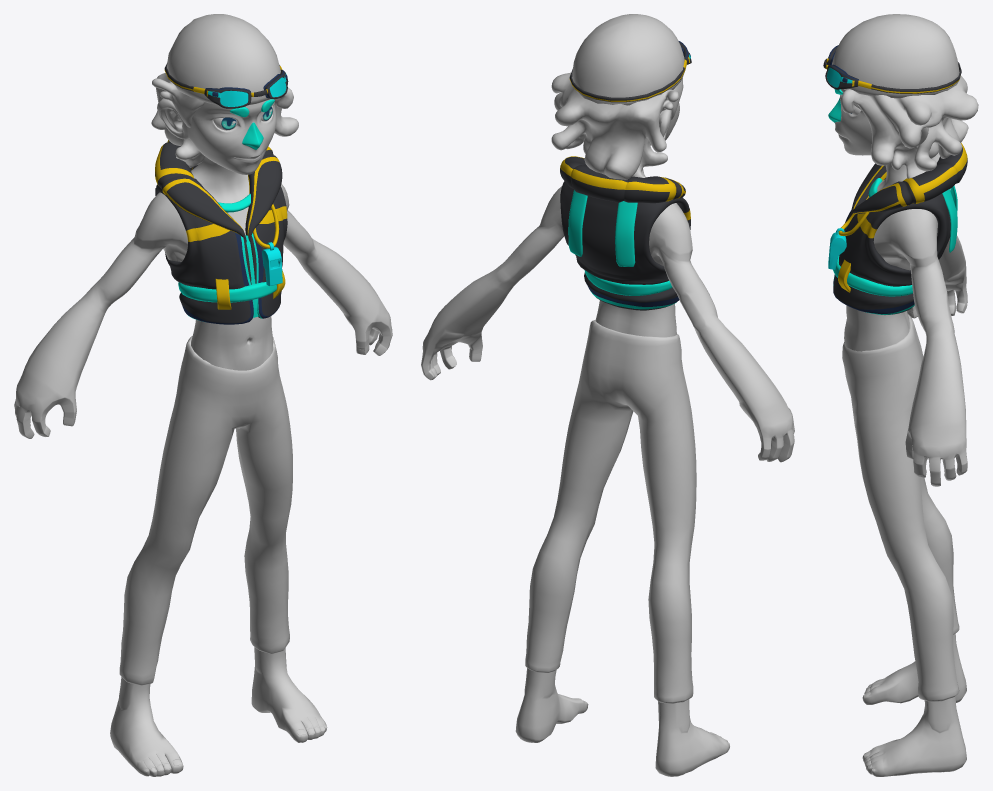
The model's file is stinray_Sport_v1.fbx.
3 renders of one model, left to right at view 1: azimuth 30°, elevation 25°; view 2: azimuth 150°, elevation 25°; view 3: azimuth 270°, elevation 25°, orthographic.
Visible parts, largest first — view 1: mainBody_c_geo, pants_c_geo, lifevest_c_geo, swimcap_c_geo, lifevestHood_c_geo, hair_c_geo, glasses_c_geo, lifevestBelt_c_geo, whistle_c_geo; view 2: pants_c_geo, mainBody_c_geo, hair_c_geo, swimcap_c_geo, lifevest_c_geo, lifevestHood_c_geo, lifevestBackDetail_c_geo, lifevestBelt_c_geo, glasses_c_geo; view 3: mainBody_c_geo, pants_c_geo, swimcap_c_geo, hair_c_geo, lifevest_c_geo, lifevestHood_c_geo, glasses_c_geo, lifevestBelt_c_geo, lifevestBackDetail_c_geo, whistle_c_geo.
Boxes of the visible parts, x1=… form: mainBody_c_geo: x1=14, y1=98, x2=392, y2=776; pants_c_geo: x1=119, y1=336, x2=292, y2=685; lifevest_c_geo: x1=155, y1=165, x2=287, y2=324; swimcap_c_geo: x1=167, y1=14, x2=280, y2=104; lifevestHood_c_geo: x1=155, y1=140, x2=282, y2=241; hair_c_geo: x1=151, y1=73, x2=298, y2=167; glasses_c_geo: x1=164, y1=63, x2=288, y2=108; lifevestBelt_c_geo: x1=178, y1=282, x2=276, y2=302; whistle_c_geo: x1=262, y1=242, x2=282, y2=285; pants_c_geo: x1=525, y1=319, x2=696, y2=703; mainBody_c_geo: x1=421, y1=103, x2=794, y2=776; hair_c_geo: x1=551, y1=72, x2=683, y2=179; swimcap_c_geo: x1=572, y1=14, x2=684, y2=105; lifevest_c_geo: x1=560, y1=181, x2=690, y2=310; lifevestHood_c_geo: x1=560, y1=156, x2=685, y2=203; lifevestBackDetail_c_geo: x1=568, y1=190, x2=637, y2=266; lifevestBelt_c_geo: x1=584, y1=270, x2=672, y2=295; glasses_c_geo: x1=569, y1=41, x2=691, y2=102; mainBody_c_geo: x1=828, y1=89, x2=967, y2=776; pants_c_geo: x1=842, y1=314, x2=959, y2=702; swimcap_c_geo: x1=832, y1=14, x2=960, y2=98; hair_c_geo: x1=841, y1=75, x2=978, y2=178; lifevest_c_geo: x1=833, y1=193, x2=950, y2=314; lifevestHood_c_geo: x1=850, y1=143, x2=967, y2=216; glasses_c_geo: x1=823, y1=45, x2=961, y2=93; lifevestBelt_c_geo: x1=833, y1=256, x2=912, y2=296; lifevestBackDetail_c_geo: x1=942, y1=185, x2=957, y2=252; whistle_c_geo: x1=828, y1=228, x2=846, y2=269.
Bounding box in the file's own units: 7.82 × 14.59 × 2.86.
